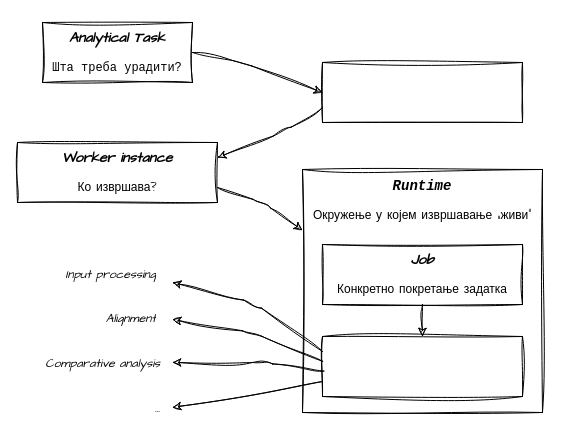
Image size: 580x440. Some labels were removed from this diagram. Each missing label, with the centre of its shape:
"Orchestrator Шта се ради и којим редом?" goes at point (422, 366).
"Scheduler Када и коме доделити рад?" goes at point (422, 92).
